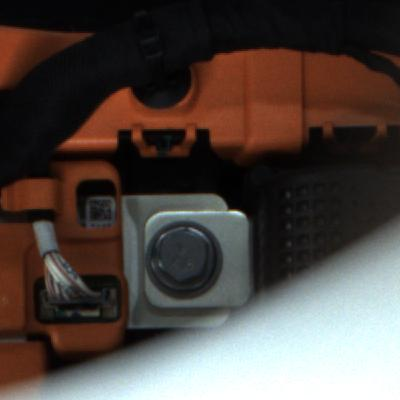nut_b: (144, 221, 232, 295)
